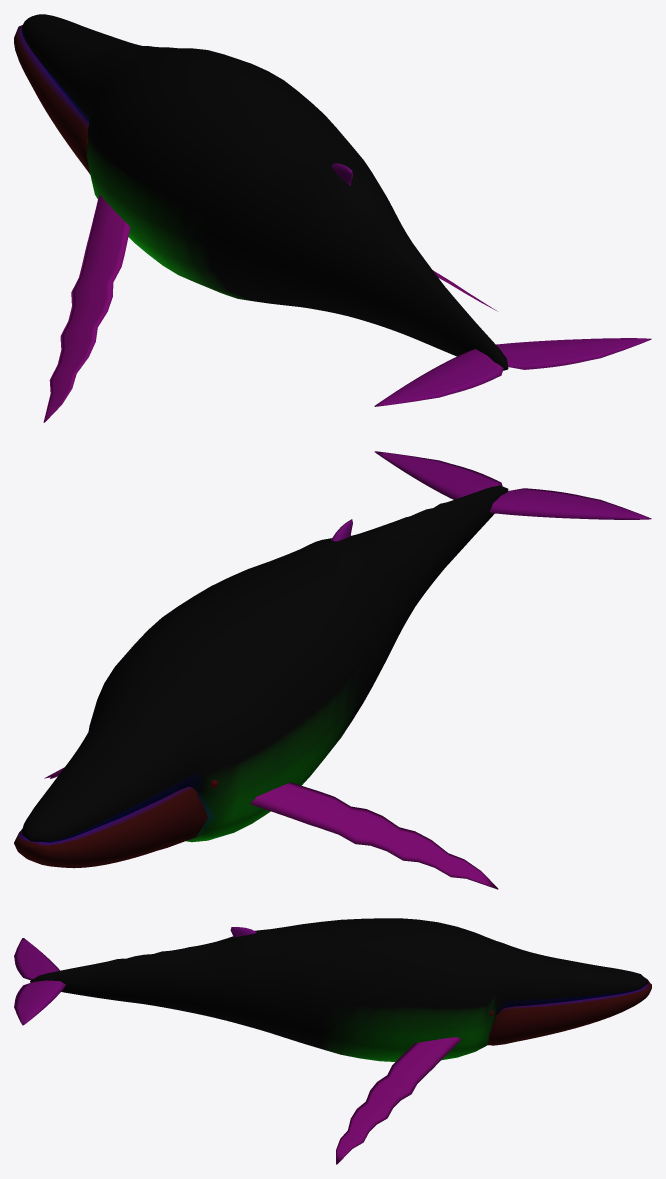
Rendered from humpback_whale_lo.glb.
3 renders of one model, top to bottom at view 1: azimuth 30°, elevation 25°; view 2: azimuth 150°, elevation 25°; view 3: azimuth 270°, elevation 25°, orthographic. The views are drawn at different scales.
Parts seen in each view (by area): view 1: humpback_whale_lo; view 2: humpback_whale_lo; view 3: humpback_whale_lo.
Boxes of the visible parts, x1,y1,x2,y2 form: humpback_whale_lo: (14, 14, 651, 422); humpback_whale_lo: (14, 451, 651, 889); humpback_whale_lo: (14, 918, 651, 1164).
Bounding box in the file's own units: 7.59 × 4.12 × 14.23.
